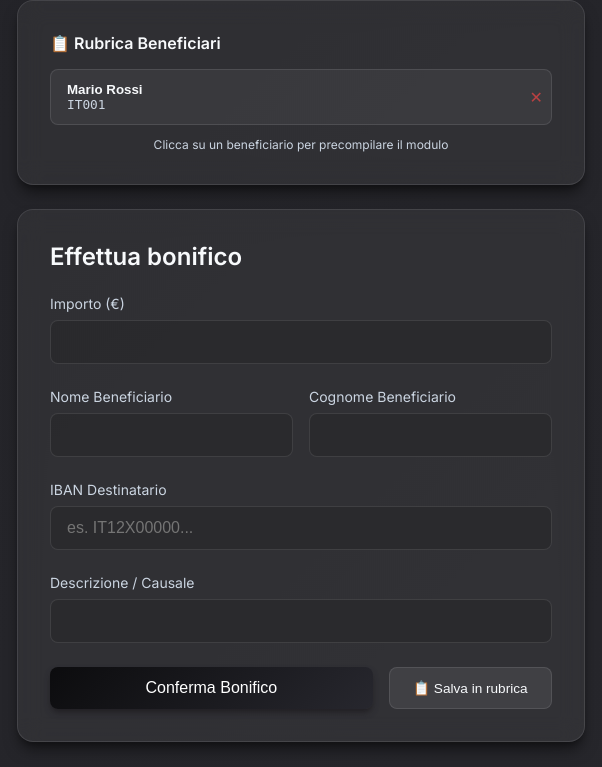
Scenario: Transfer Page › prefills form when beneficiary is clicked
What coordinates should you click on to do the following:
click the text "Mario Rossi"
I would click on:
 (105, 90)
Its box is [67, 82, 142, 97].
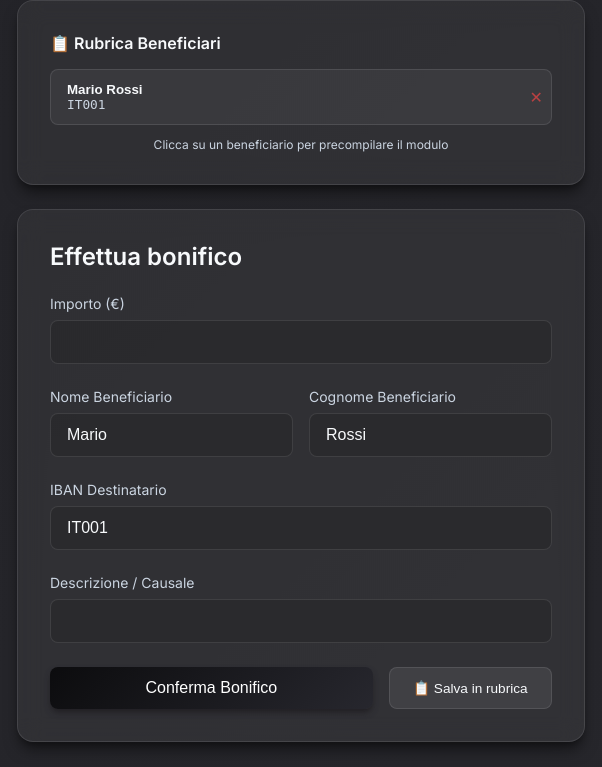
Check: the field labelled "Nome Beneficiario" holds "Mario", box [50, 413, 293, 457]
Check: the field labelled "Cognome Beneficiario" holds "Rossi", box [309, 413, 552, 457]
Check: the field labelled "IBAN Destinatario" holds "IT001", box [50, 506, 552, 550]
